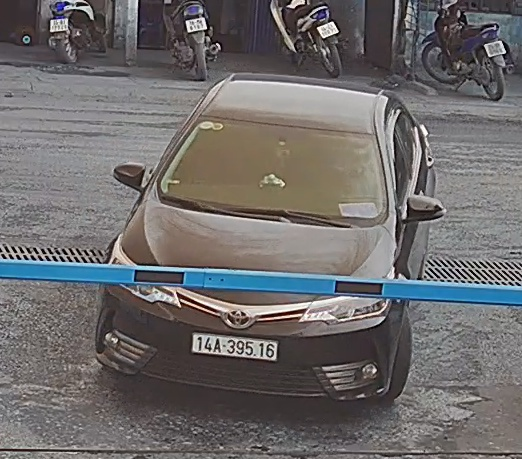vehicle plate: (189, 322, 288, 361)
